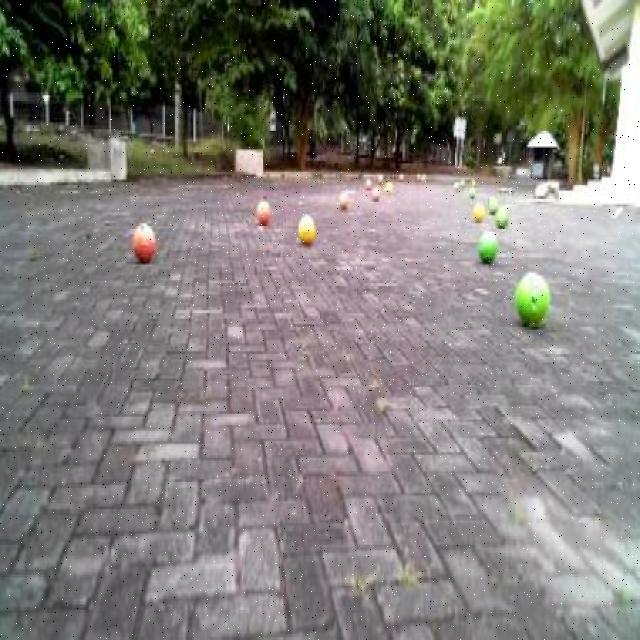buoy: (512, 260, 553, 336), (128, 215, 158, 267), (296, 207, 317, 248), (477, 222, 499, 260), (254, 191, 272, 226)
